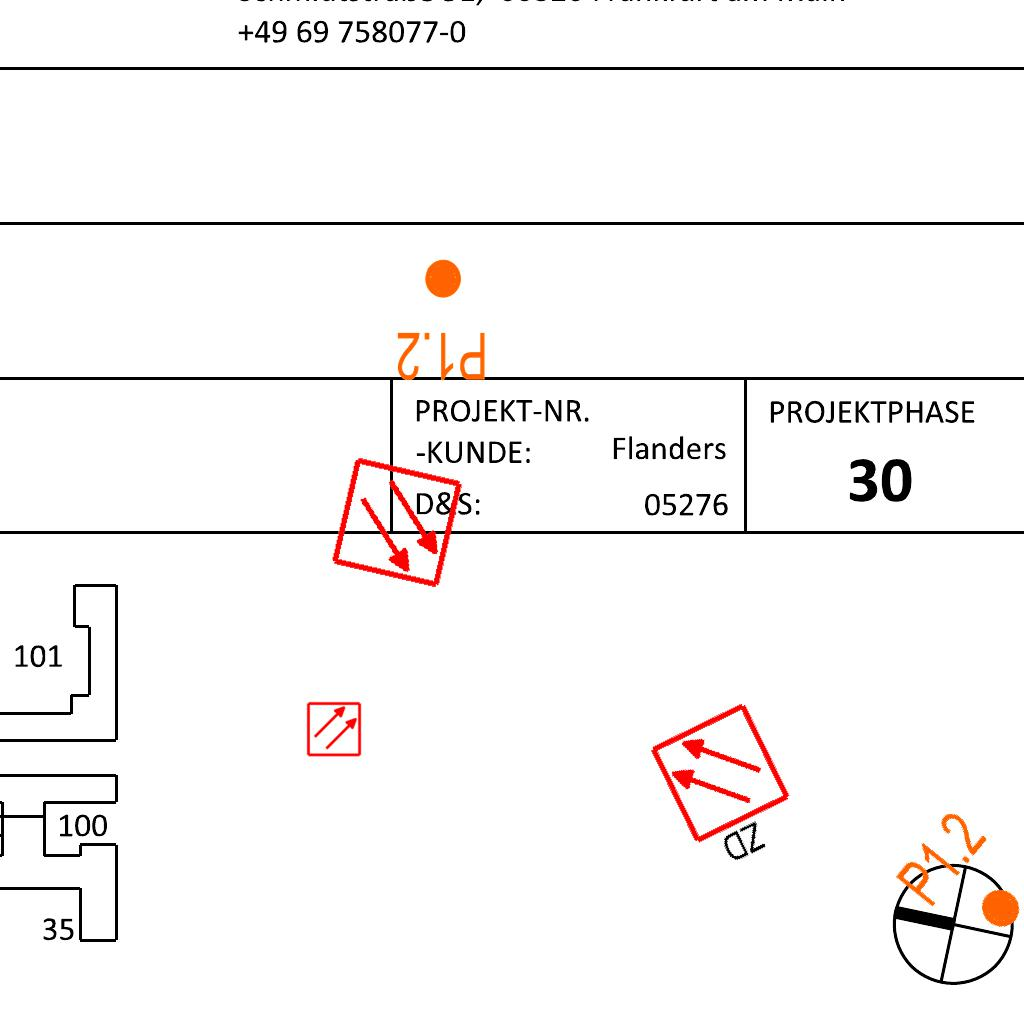Downlight_LED_Einbauleuchten_Flur: (890, 804, 1024, 958), (395, 256, 488, 384)
RMO_Rauchmelder_optischer: (329, 454, 466, 591), (306, 701, 362, 757)
ZD_Melder_in_Zwischendecke_mit_Revisionsoeffnung_mind_40_x_40_cm: (646, 697, 814, 882)
